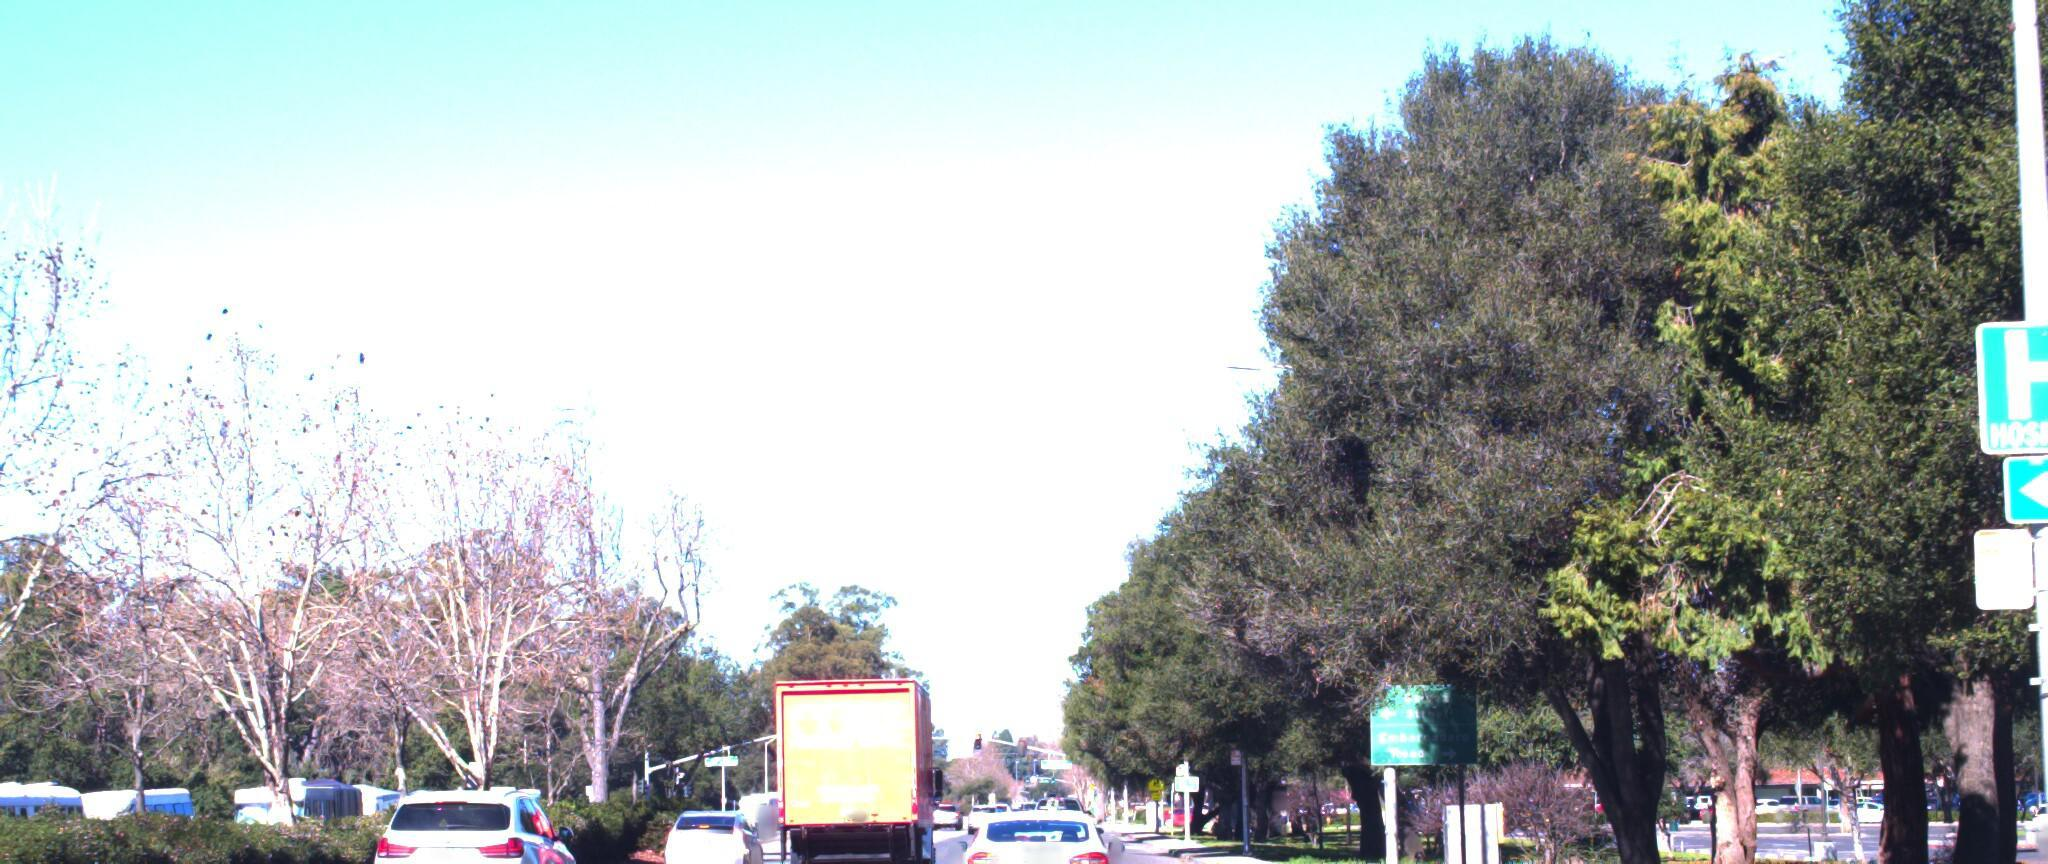car: (355, 756, 588, 864), (951, 786, 1132, 864), (660, 769, 773, 857)
truck: (771, 643, 963, 863)
